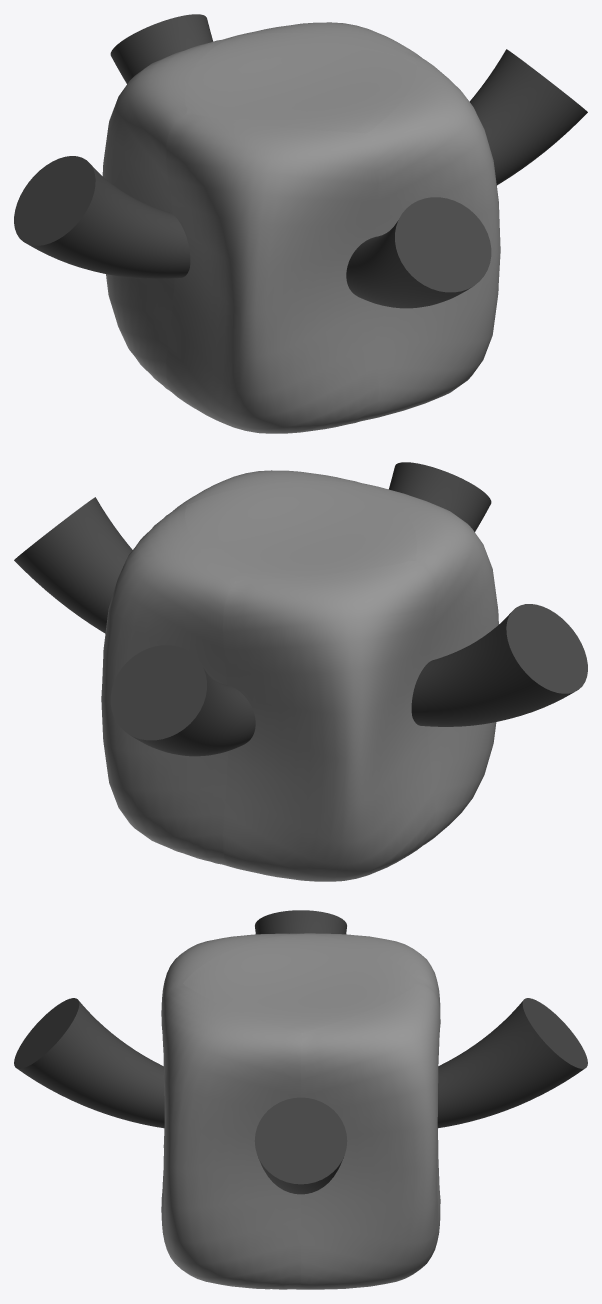
3 views of the same model, one above another, from view 1: azimuth 30°, elevation 25°; view 2: azimuth 150°, elevation 25°; view 3: azimuth 270°, elevation 25° (orthographic). The views are drawn at different scales.
Visible parts, largest first — view 1: Body(Cubic)+Colour(6000000_6000000)+Pattern(Solid)+Smoo_c3ca, Arm002, Arm004, Arm001, Arm003; view 2: Body(Cubic)+Colour(6000000_6000000)+Pattern(Solid)+Smoo_c3ca, Arm002, Arm003, Arm001, Arm004; view 3: Body(Cubic)+Colour(6000000_6000000)+Pattern(Solid)+Smoo_c3ca, Arm004, Arm003, Arm001, Arm002.
Boxes of the visible parts, x1=… form: Body(Cubic)+Colour(6000000_6000000)+Pattern(Solid)+Smoo_c3ca: x1=102, y1=22, x2=500, y2=433; Arm002: x1=14, y1=156, x2=190, y2=278; Arm004: x1=346, y1=197, x2=491, y2=308; Arm001: x1=469, y1=49, x2=587, y2=185; Arm003: x1=110, y1=14, x2=213, y2=83; Body(Cubic)+Colour(6000000_6000000)+Pattern(Solid)+Smoo_c3ca: x1=101, y1=470, x2=498, y2=881; Arm002: x1=411, y1=604, x2=587, y2=726; Arm003: x1=110, y1=645, x2=255, y2=756; Arm001: x1=14, y1=497, x2=132, y2=633; Arm004: x1=388, y1=462, x2=491, y2=531; Body(Cubic)+Colour(6000000_6000000)+Pattern(Solid)+Smoo_c3ca: x1=161, y1=933, x2=440, y2=1289; Arm004: x1=14, y1=998, x2=164, y2=1128; Arm003: x1=437, y1=998, x2=587, y2=1128; Arm001: x1=254, y1=1097, x2=347, y2=1194; Arm002: x1=255, y1=910, x2=346, y2=934.
Size of the model in its own units: 1.58 by 0.8001 by 1.58.
2 materials, 2 textured.
